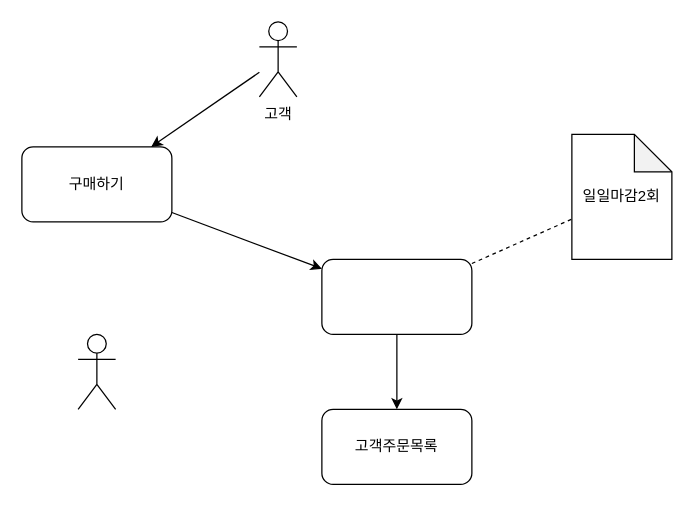
Some shapes in this 694 by 506 pixel diagram are drawn without their labels. Each missing label, with the centre of its shape:
"주문목록" goes at point 396,296.
"판매자" goes at point 96,371.
